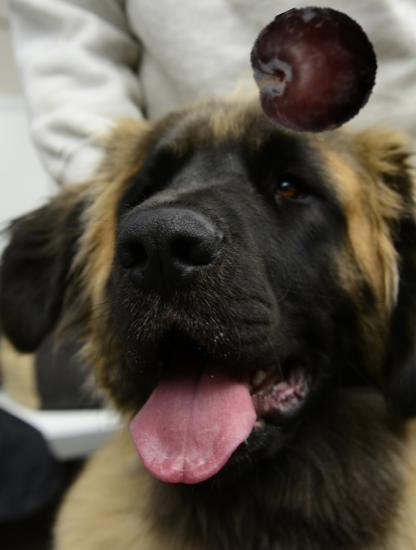Plum: (249, 5, 380, 136)
